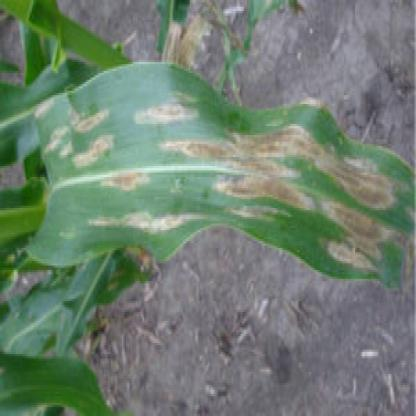Corn leaf blight: (35, 75, 415, 270)
